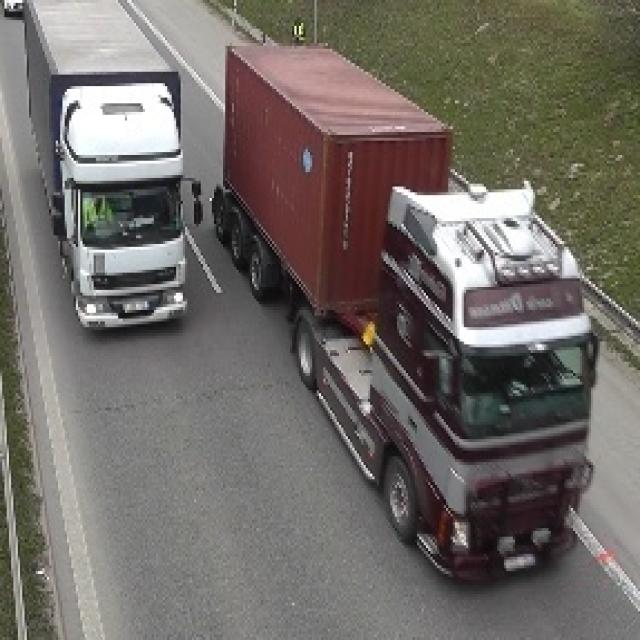TRUCK: (213, 39, 592, 590), (21, 11, 193, 348)
